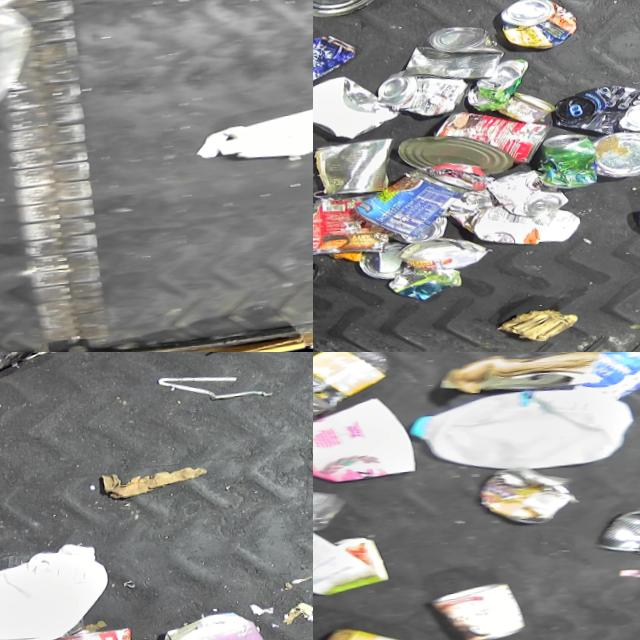can: (350, 162, 470, 242), (432, 103, 552, 175), (476, 462, 578, 533), (398, 22, 506, 89), (396, 128, 513, 185), (424, 580, 528, 640), (376, 64, 470, 122), (553, 80, 640, 142), (313, 135, 398, 198), (313, 189, 388, 259), (484, 166, 570, 222), (498, 0, 578, 54), (535, 131, 599, 192), (396, 233, 489, 274), (464, 59, 531, 113), (593, 505, 640, 565), (313, 29, 360, 88), (593, 128, 640, 182), (496, 88, 554, 128), (356, 241, 408, 282), (389, 217, 448, 245), (313, 0, 393, 20), (46, 626, 136, 640)
milk_jug: (406, 379, 638, 485), (0, 539, 113, 640)
non_white_jug: (157, 607, 301, 640)
plastic_bottle: (313, 352, 395, 435), (313, 479, 348, 541)
